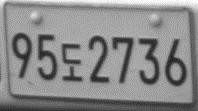2: (87, 34, 109, 83)
3: (138, 37, 160, 85)
5: (37, 33, 57, 80)
6: (164, 37, 187, 86)
7: (112, 36, 133, 83)
9: (11, 31, 32, 78)
도: (61, 43, 83, 82)
